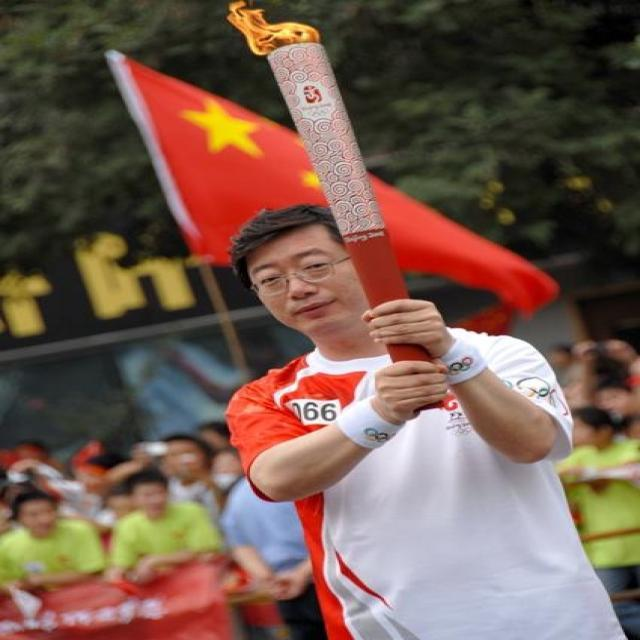Fire: (224, 1, 321, 58)
